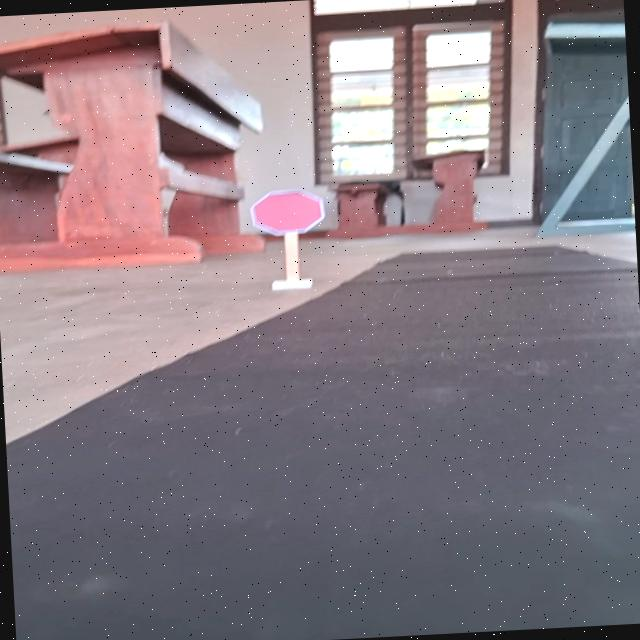Stop: (248, 188, 330, 238)
